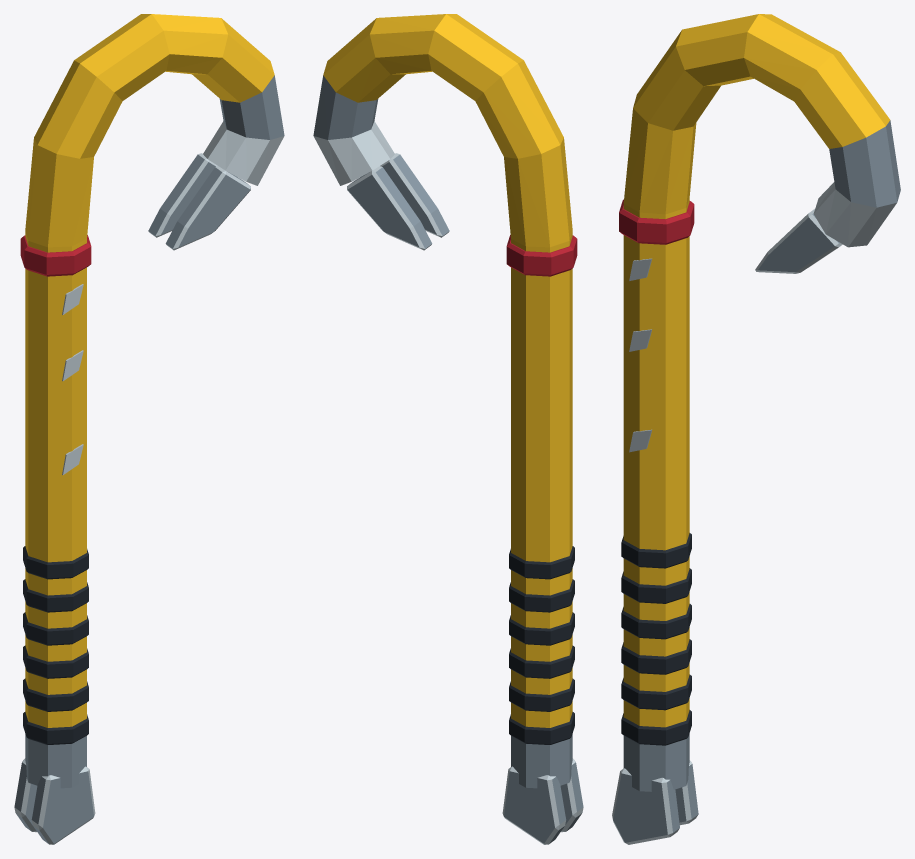
Rendered from crowbar.fbx.
3 renders of one model, left to right at view 1: azimuth 30°, elevation 25°; view 2: azimuth 150°, elevation 25°; view 3: azimuth 330°, elevation 25°, orthographic. The views are drawn at different scales.
Visible parts, largest first — view 1: crowbar; view 2: crowbar; view 3: crowbar.
Boxes of the visible parts, x1,y1,x2,y2 form: crowbar: [14, 14, 284, 844]; crowbar: [313, 14, 583, 844]; crowbar: [612, 14, 900, 844].
Size of the model in its own units: 122 by 360 by 30.
